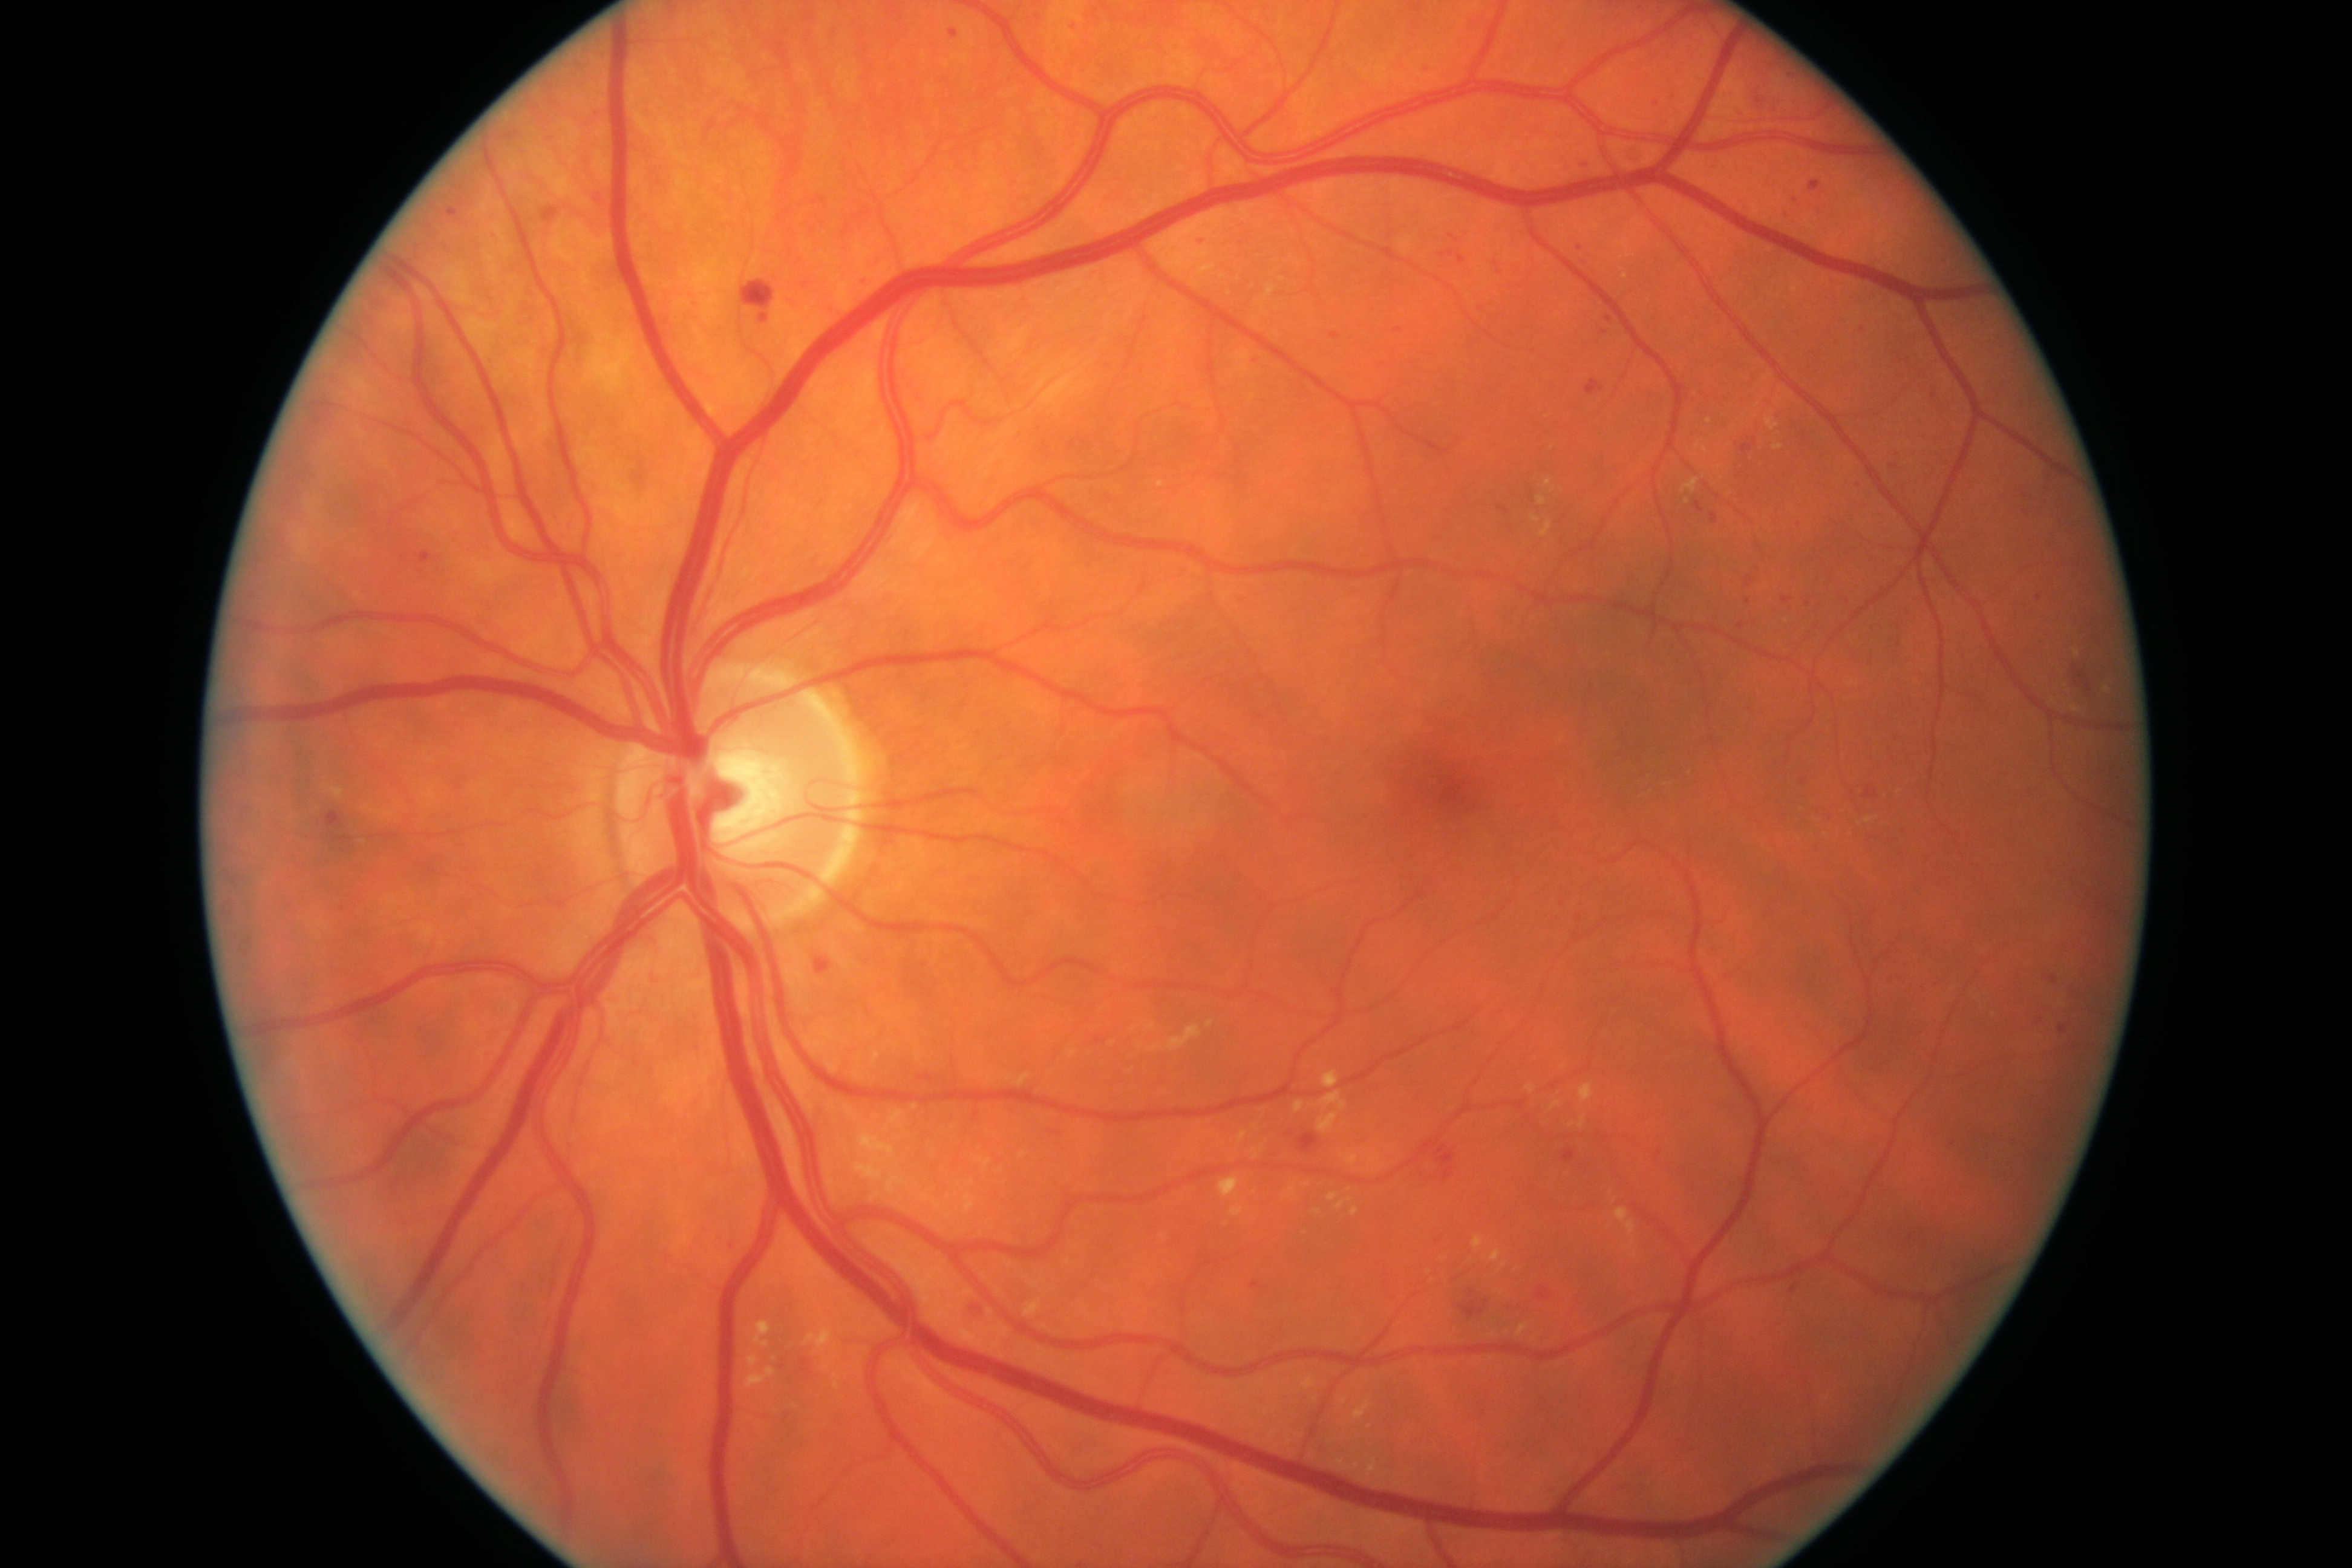Fovea: (1332, 710, 1545, 896)
OD: (591, 644, 879, 950)
